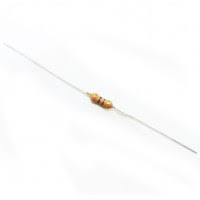resistor: (74, 85, 122, 115)
